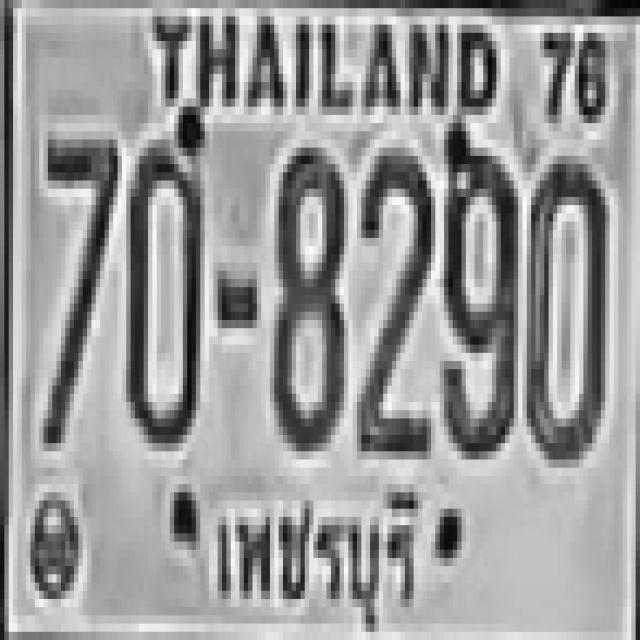0: (523, 148, 605, 460), (124, 131, 203, 443)
2: (357, 140, 431, 452)
7: (39, 131, 118, 443)
8: (270, 140, 340, 443)
9: (439, 123, 514, 451)
Phetchaburi: (198, 473, 426, 638)
